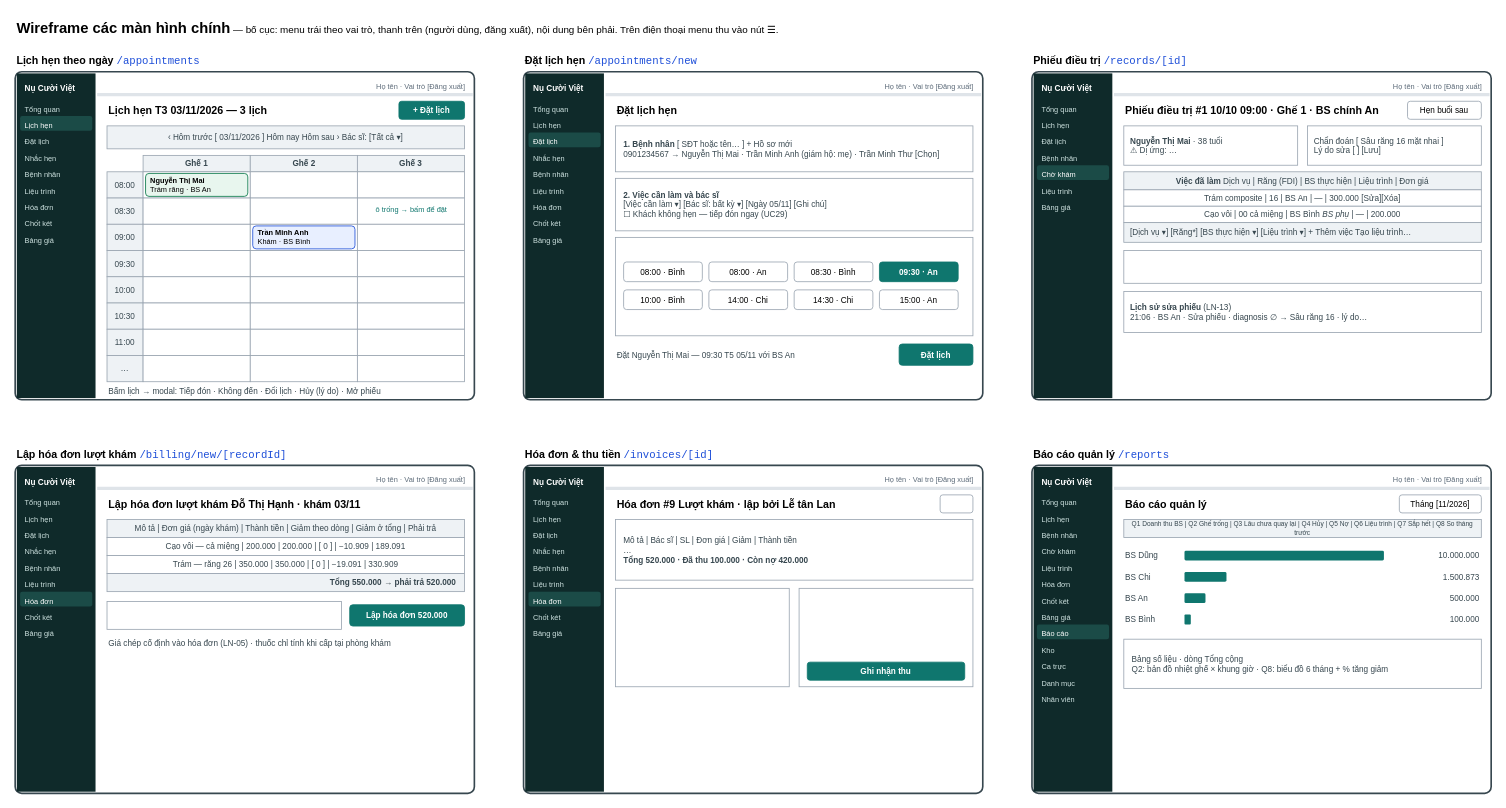
Some shapes in this 1506 by 808 pixel diagram are drawn without their labels. The shapes that lost their labels are listed below. From the top down, each one's box as (x1, y1, x2, y2) in pixels, then its label:
(615, 237, 973, 336): 3. Chọn khung trống (bác sĩ đang trực · bác sĩ rảnh · còn ghế)
(1123, 250, 1481, 283): Đơn thuốc Amoxicillin | 2 viên/ngày | 10 viên | Cấp tại phòng khám
(939, 494, 973, 513): In
(106, 601, 342, 629): Giảm ở tổng [ 30000 ] (tự chia theo tỷ lệ) Lý do* [ Khách quen ]
(615, 588, 789, 687): Các lần thu 21:52 · Tiền mặt · 100.000 · Lan
(798, 588, 973, 687): Thu tiền Số tiền [ 420000 ] ◉ Tiền mặt ○ Chuyển khoản Ghi chú [ ]
